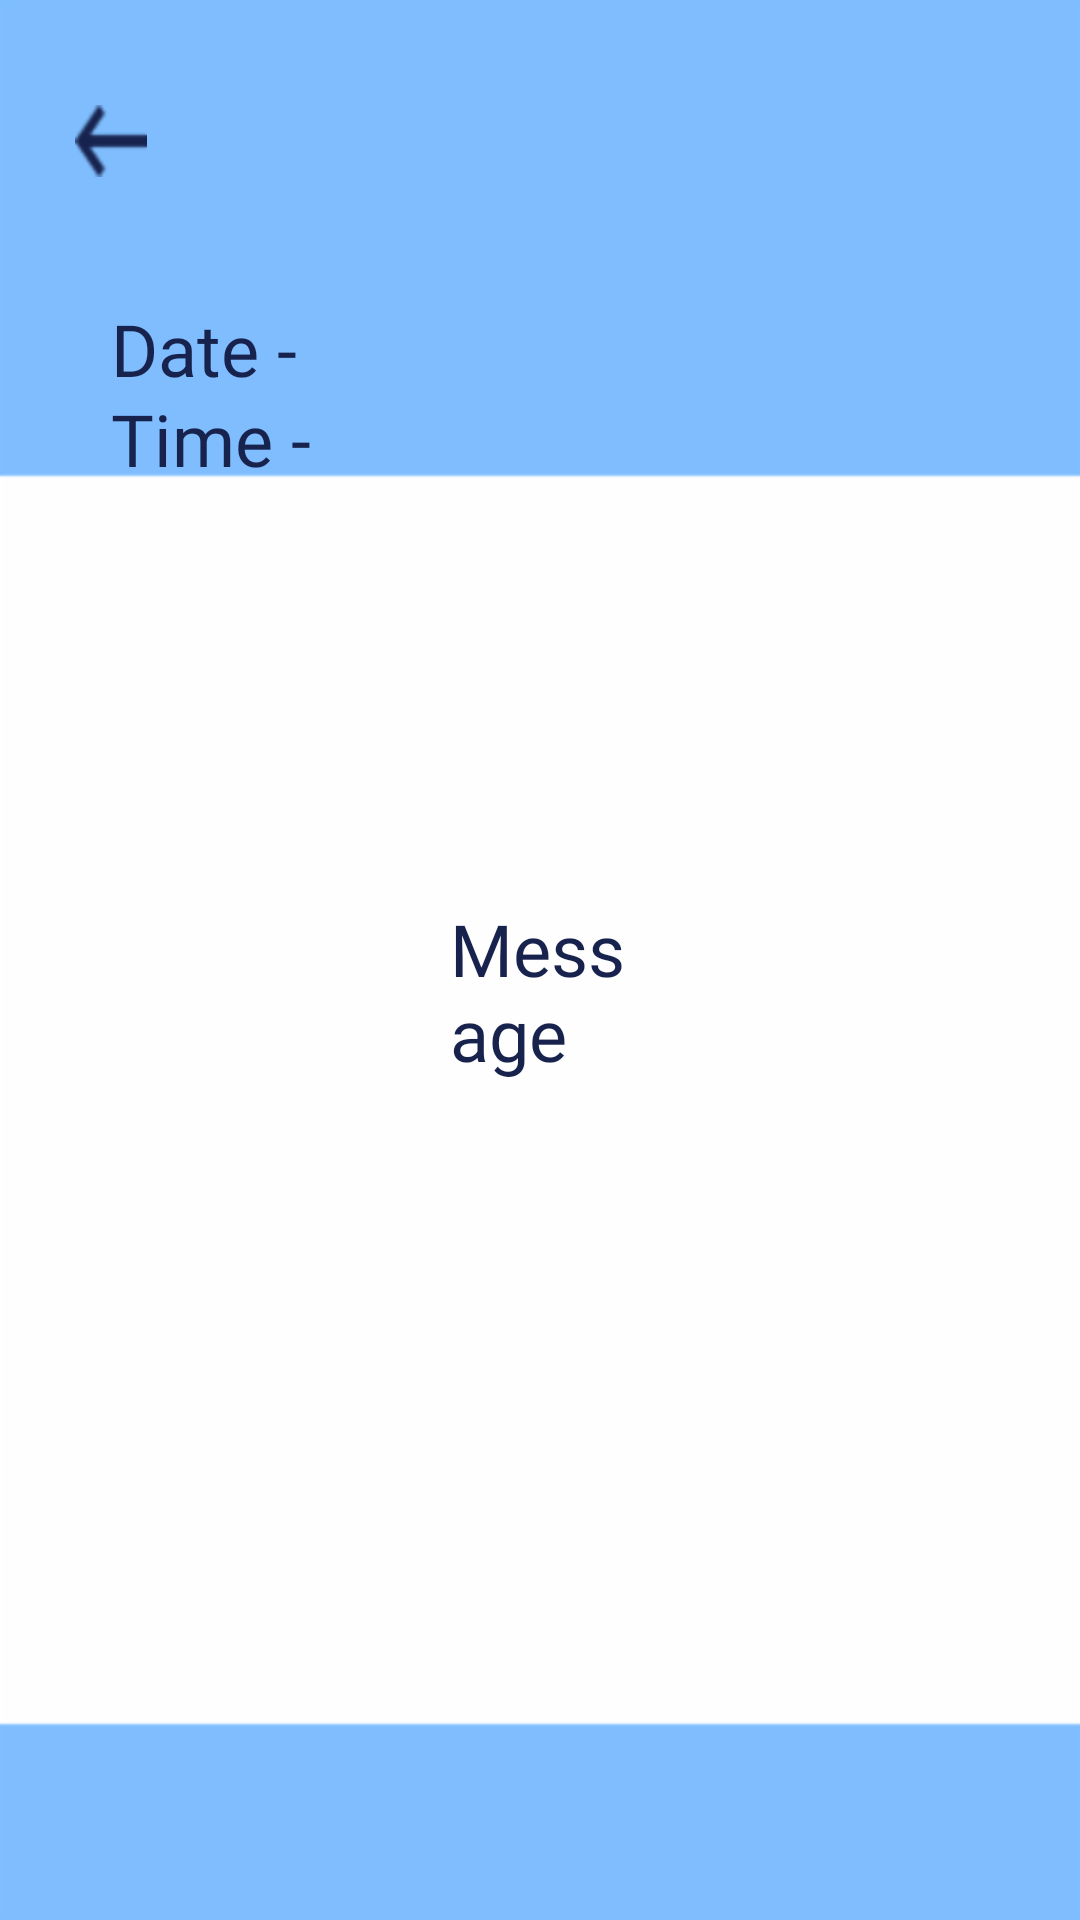

Where icons sit on this 1080×1920 app screen, as (x1, y1, x2, y2):
back arrow: (75, 105, 147, 177)
